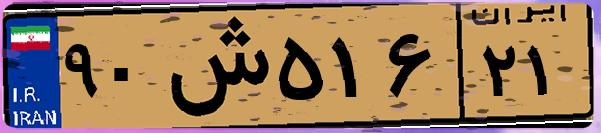0: (110, 28, 158, 98)
1: (330, 28, 385, 110), (525, 38, 570, 115)
2: (475, 38, 525, 113)
5: (270, 28, 330, 110)
6: (385, 28, 445, 110)
9: (57, 26, 110, 100)
ش: (158, 12, 270, 120)
